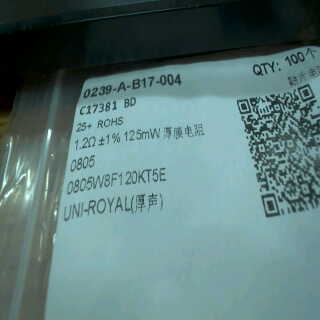1.2R: (67, 134, 98, 172)
